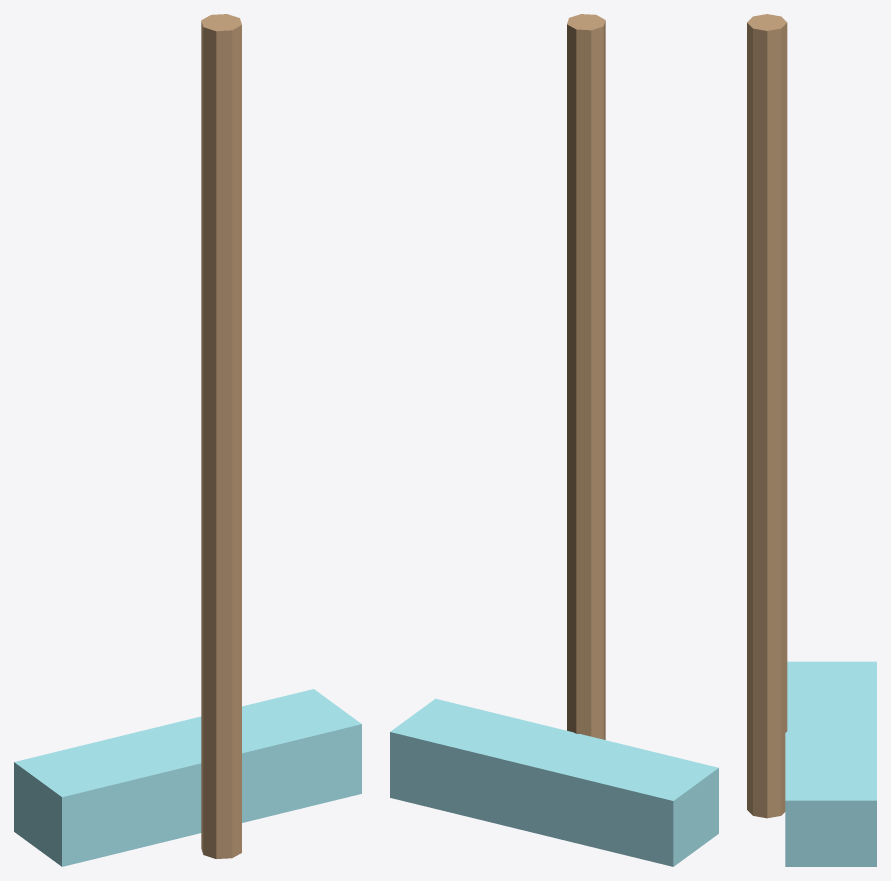
The model's file is tool_mop.glb.
3 renders of one model, left to right at view 1: azimuth 30°, elevation 25°; view 2: azimuth 150°, elevation 25°; view 3: azimuth 270°, elevation 25°, orthographic. The views are drawn at different scales.
Parts seen in each view (by area): view 1: stick, head; view 2: head, stick; view 3: stick, head.
Boxes of the visible parts, bbox=[...] form: stick: bbox=[201, 14, 241, 858]; head: bbox=[14, 689, 361, 866]; head: bbox=[390, 698, 718, 866]; stick: bbox=[567, 14, 605, 739]; stick: bbox=[747, 14, 787, 818]; head: bbox=[785, 661, 876, 866].
Bounding box in the file's own units: 0.36 × 0.95 × 0.142.
